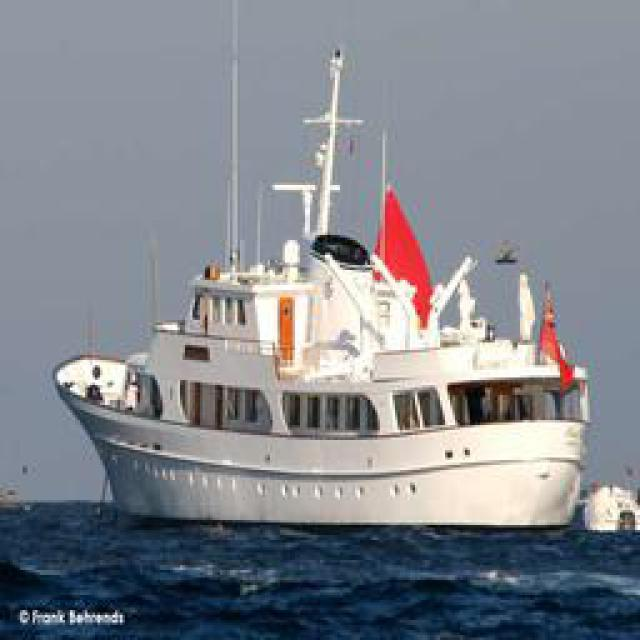Ship: (60, 203, 608, 538)
